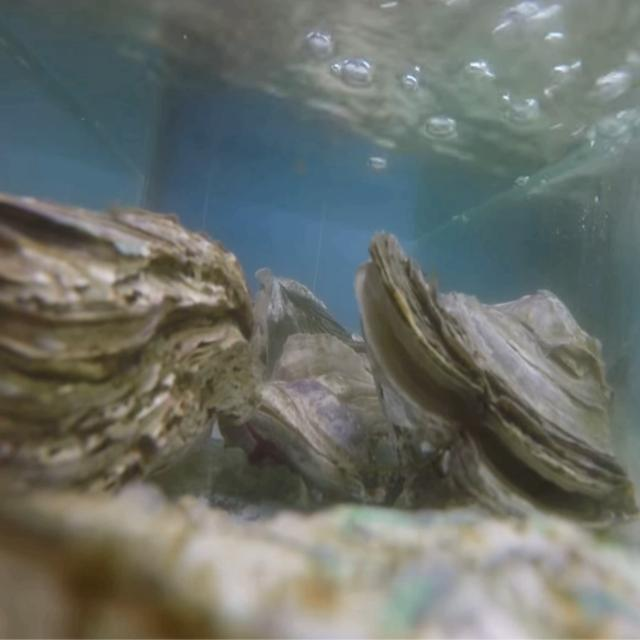Oyster-Closed: (0, 192, 255, 517), (247, 333, 411, 510)
Oyster-Indeterminate: (0, 484, 640, 640)
Oyster-Open: (354, 233, 640, 538)
